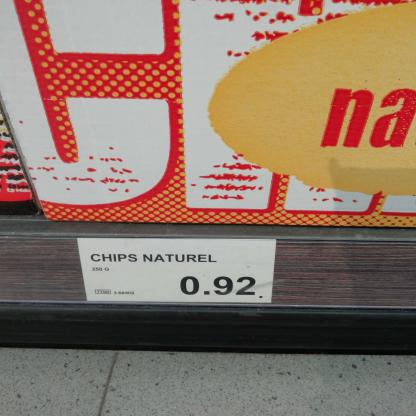prtg: (77, 238, 278, 304)
